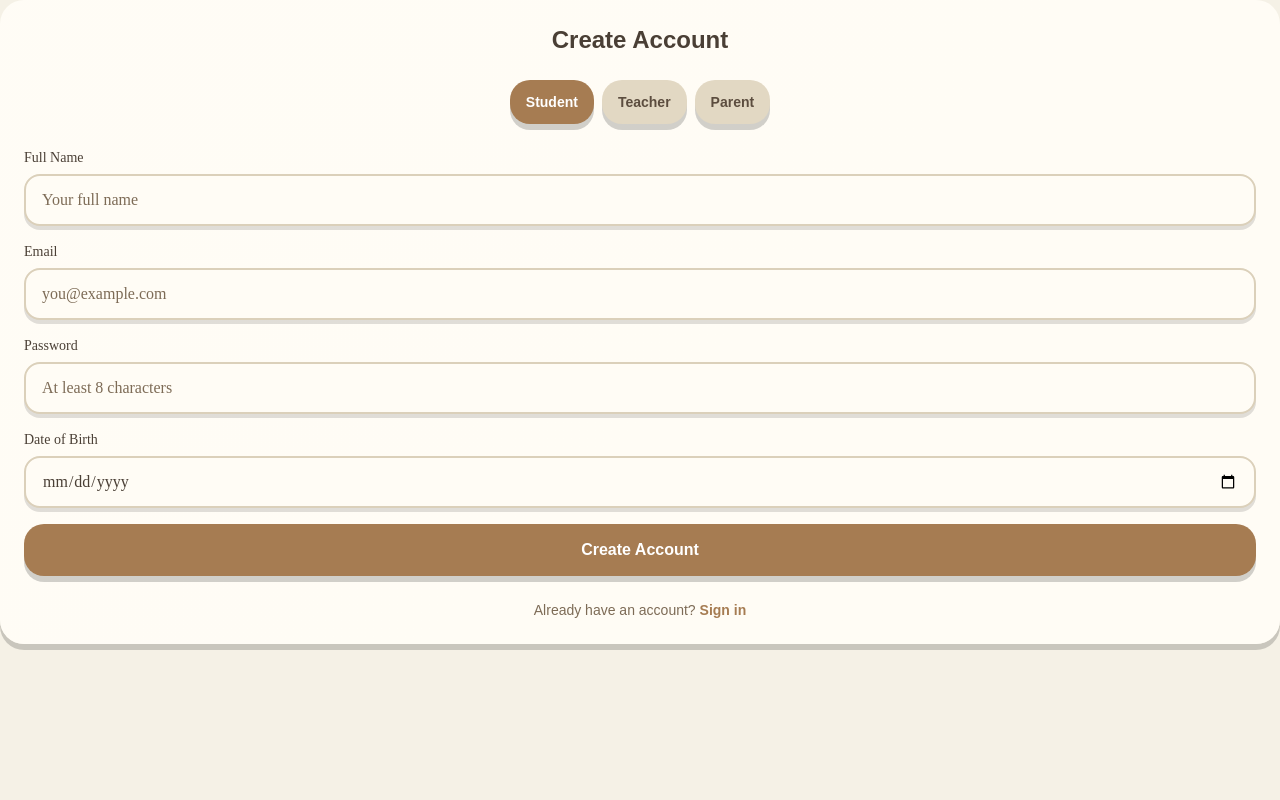
Test: RegisterPage › shows teacher-specific fields when teacher role selected
Click the button "Teacher" at (644, 102), box [602,80,687,124]
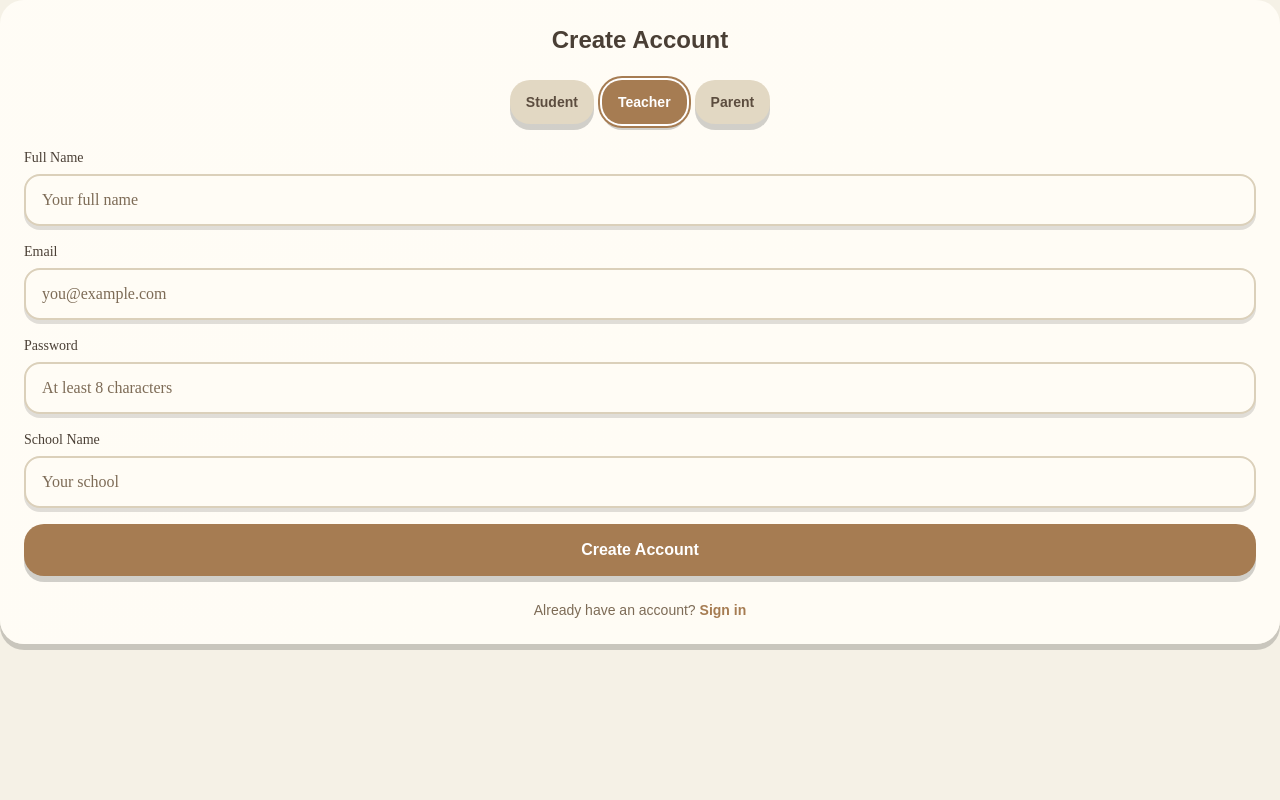
Now the field labelled "School Name" is shown, box [24,456,1256,508]
Now the label labelled "Date of Birth" is gone
